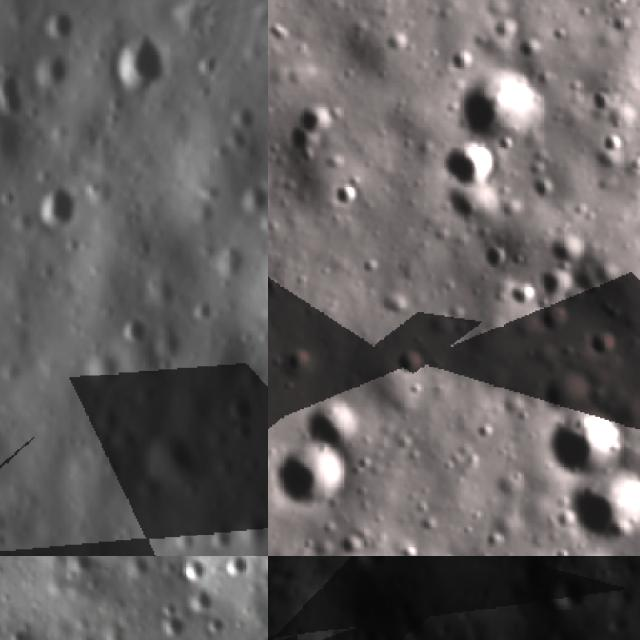crater: (458, 74, 548, 149), (271, 440, 350, 520), (134, 415, 210, 498), (539, 413, 632, 479), (105, 20, 177, 102), (573, 474, 640, 548), (25, 173, 91, 240), (296, 398, 364, 460), (526, 366, 598, 418), (435, 146, 500, 195), (213, 382, 264, 444), (0, 59, 41, 131), (28, 42, 80, 94), (225, 167, 268, 227), (110, 306, 164, 353), (536, 262, 578, 312), (36, 0, 82, 44), (542, 568, 590, 610), (526, 307, 574, 343), (151, 592, 194, 632), (581, 328, 620, 364), (278, 344, 316, 379), (388, 348, 426, 382), (183, 573, 215, 610), (178, 556, 211, 583), (332, 179, 361, 208), (256, 444, 268, 503), (221, 556, 248, 579)
